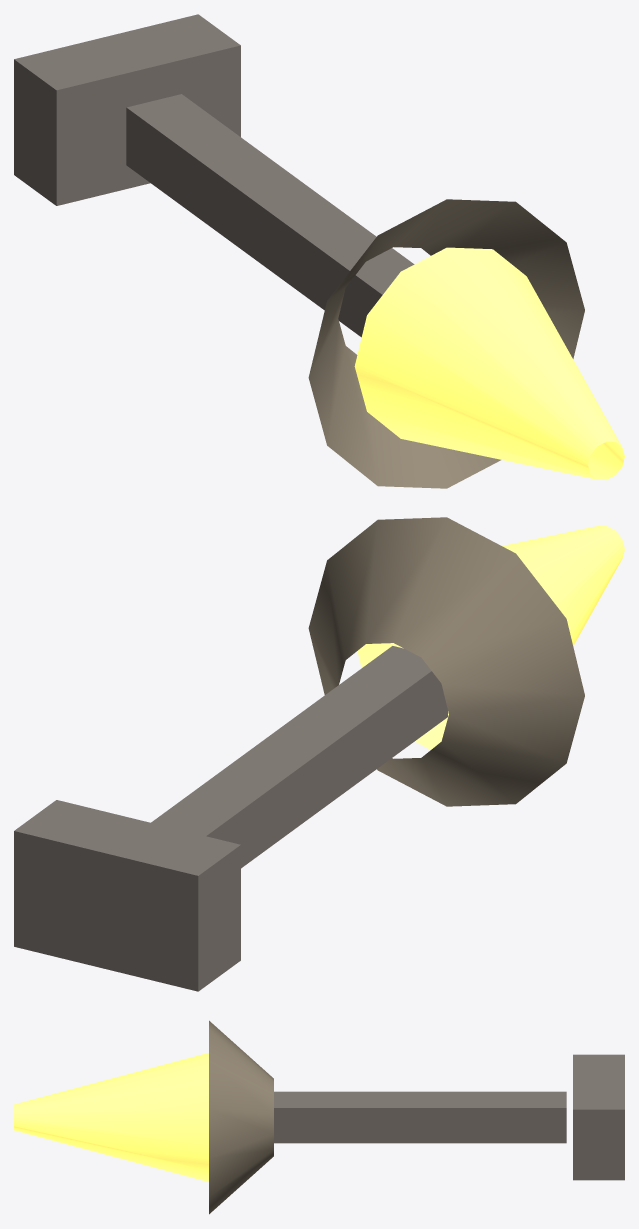
File: sconce.glb
3 views of the same model, one above another, from view 1: azimuth 30°, elevation 25°; view 2: azimuth 150°, elevation 25°; view 3: azimuth 270°, elevation 25° (orthographic). The views are drawn at different scales.
Visible parts, largest first — view 1: Sconce; view 2: Sconce; view 3: Sconce.
Part boxes in pixels (x1=…): Sconce: x1=14, y1=14, x2=624, y2=488; Sconce: x1=14, y1=517, x2=624, y2=991; Sconce: x1=14, y1=1020, x2=624, y2=1214.
Bounding box in the file's own units: 0.3 × 0.3 × 0.94.
